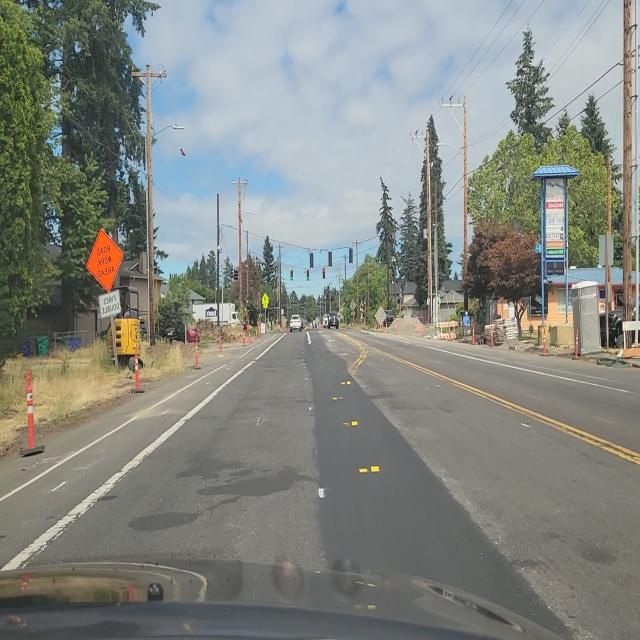car: (382, 310, 396, 328), (327, 312, 339, 329), (290, 314, 302, 328)
crosswalk-sign: (262, 293, 269, 308)
delineator: (25, 372, 36, 450), (132, 344, 144, 394), (194, 336, 200, 370), (218, 330, 224, 358), (542, 326, 547, 356), (574, 329, 578, 359), (242, 324, 246, 346), (490, 325, 494, 346), (248, 322, 252, 342), (257, 321, 261, 338), (235, 327, 239, 343), (472, 323, 475, 344), (420, 322, 424, 337), (394, 322, 398, 334), (384, 322, 388, 332)
